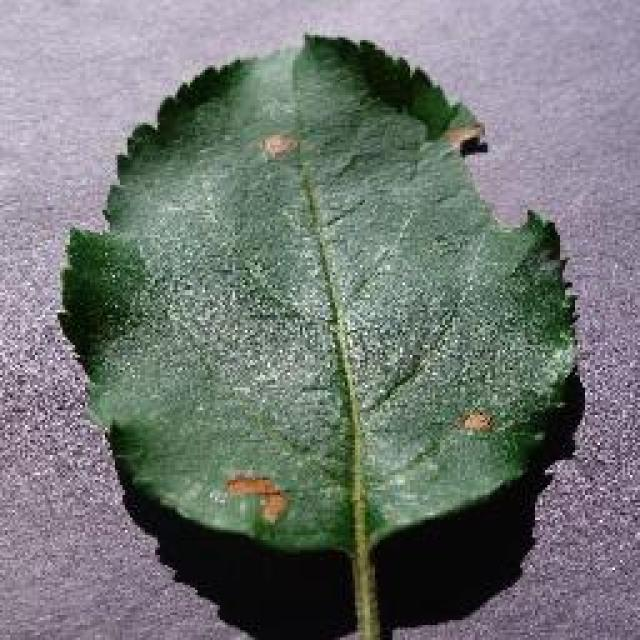Apple___Black_rot: (210, 110, 529, 538)
